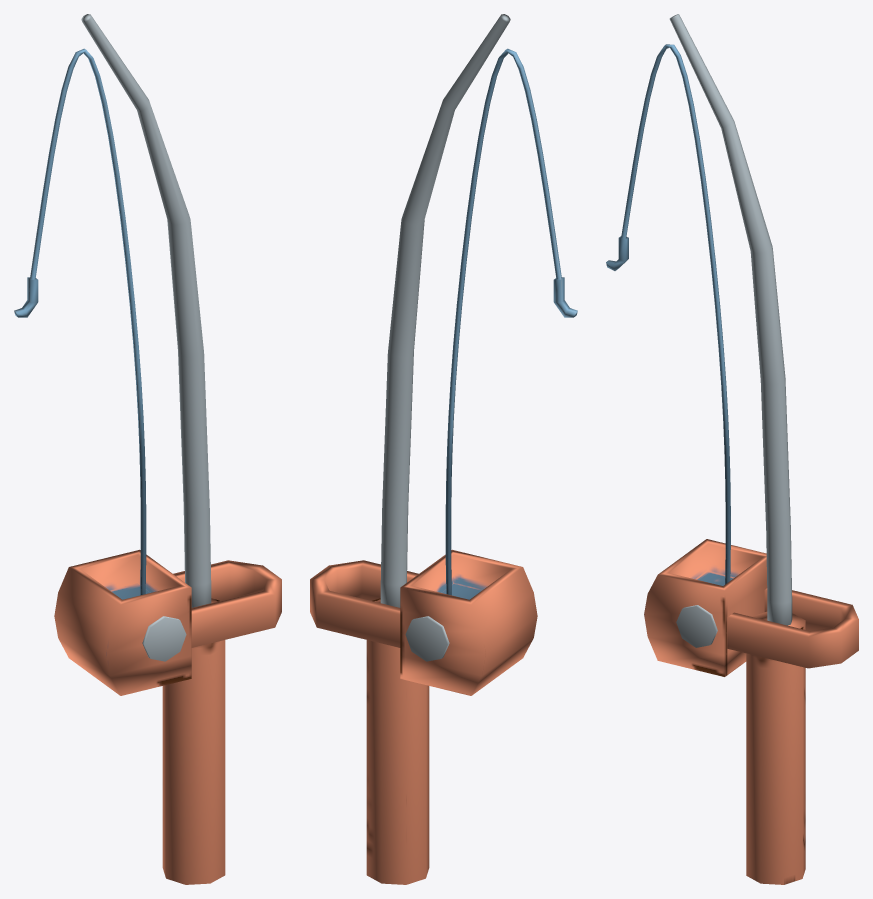
The model's file is FishingRod.fbx.
3 renders of one model, left to right at view 1: azimuth 30°, elevation 25°; view 2: azimuth 150°, elevation 25°; view 3: azimuth 330°, elevation 25°, orthographic. The views are drawn at different scales.
Parts seen in each view (by area): view 1: FishingRod:pCylinder11, FishingRod:pasted__pCube1, FishingRod:pCylinder12, FishingRod:pCube1, FishingRod:pCube2, FishingRod:pCylinder2; view 2: FishingRod:pCylinder11, FishingRod:pasted__pCube1, FishingRod:pCylinder12, FishingRod:pCube1, FishingRod:pCube2, FishingRod:pCylinder2; view 3: FishingRod:pCylinder11, FishingRod:pCylinder12, FishingRod:pasted__pCube1, FishingRod:pCube1, FishingRod:pCube2, FishingRod:pCylinder2.
Boxes of the visible parts, left/top/right/bottom form: FishingRod:pCylinder11: left=162, top=598, right=225, bottom=884; FishingRod:pasted__pCube1: left=54, top=549, right=191, bottom=695; FishingRod:pCylinder12: left=81, top=14, right=211, bottom=607; FishingRod:pCube1: left=173, top=560, right=281, bottom=647; FishingRod:pCube2: left=14, top=48, right=146, bottom=595; FishingRod:pCylinder2: left=142, top=616, right=186, bottom=661; FishingRod:pCylinder11: left=366, top=598, right=429, bottom=884; FishingRod:pasted__pCube1: left=400, top=549, right=537, bottom=695; FishingRod:pCylinder12: left=380, top=14, right=510, bottom=607; FishingRod:pCube1: left=310, top=560, right=418, bottom=647; FishingRod:pCube2: left=445, top=48, right=577, bottom=595; FishingRod:pCylinder2: left=405, top=616, right=449, bottom=661; FishingRod:pCylinder11: left=746, top=611, right=805, bottom=884; FishingRod:pCylinder12: left=669, top=14, right=792, bottom=625; FishingRod:pasted__pCube1: left=644, top=539, right=767, bottom=676; FishingRod:pCube1: left=727, top=588, right=858, bottom=668; FishingRod:pCube2: left=606, top=44, right=730, bottom=584; FishingRod:pCylinder2: left=676, top=605, right=717, bottom=647.
Bounding box in the file's own units: 1.9 × 6.22 × 0.7162.
